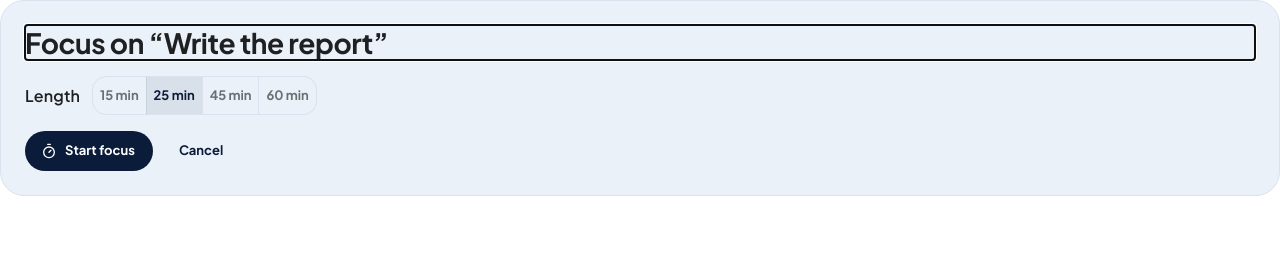
Test case: choosing a length › says why when it cannot start, and keeps the choice
Click the button "Start focus": (89, 151) [25,131,153,171]
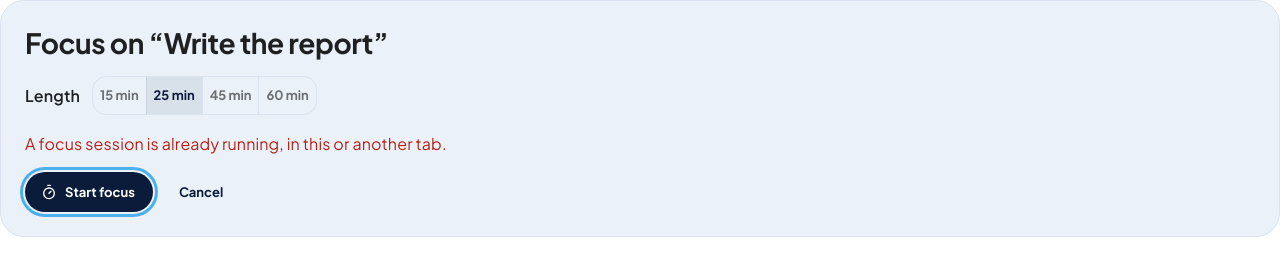
Expected: the message shows "already running", [25,133,447,154]
